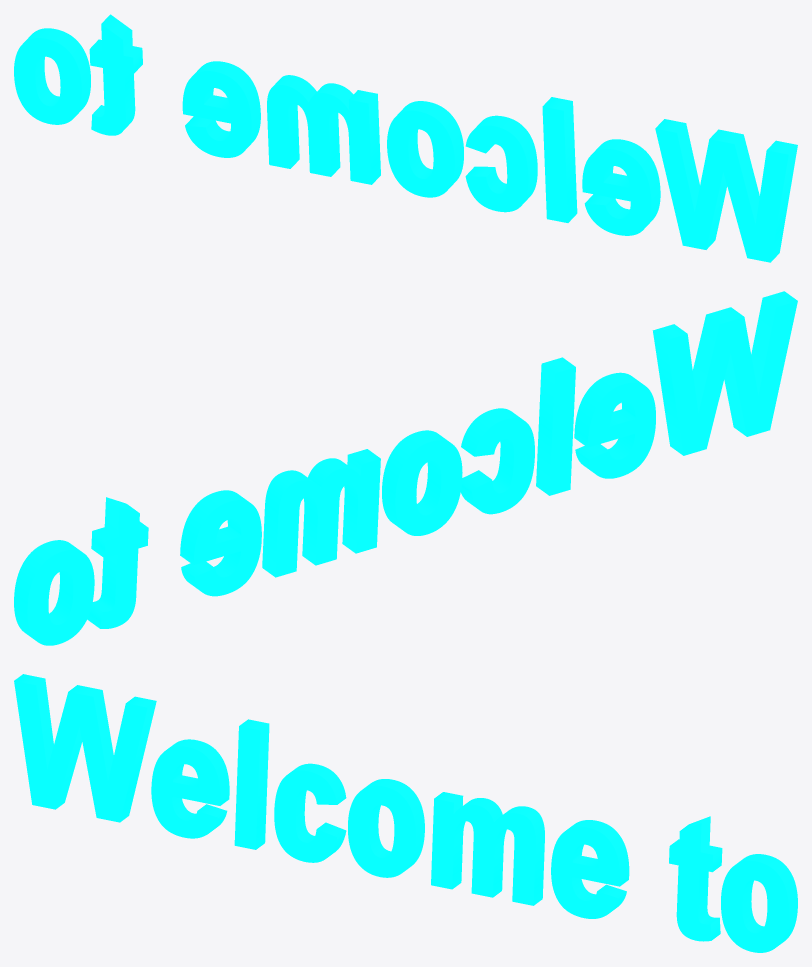
File: WELCOMETO.fbx
3 renders of one model, top to bottom at view 1: azimuth 90°, elevation 25°; view 2: azimuth 150°, elevation 25°; view 3: azimuth 270°, elevation 25°, orthographic. The views are drawn at different scales.
Parts seen in each view (by area): view 1: WELCOMETO_LOD0; view 2: WELCOMETO_LOD0; view 3: WELCOMETO_LOD0.
Part boxes in pixels (<box>): WELCOMETO_LOD0: <box>14,14,797,262</box>; WELCOMETO_LOD0: <box>14,291,797,645</box>; WELCOMETO_LOD0: <box>14,674,797,952</box>.
Size of what is drawn, in the model's own units: 392 by 135 by 788.
